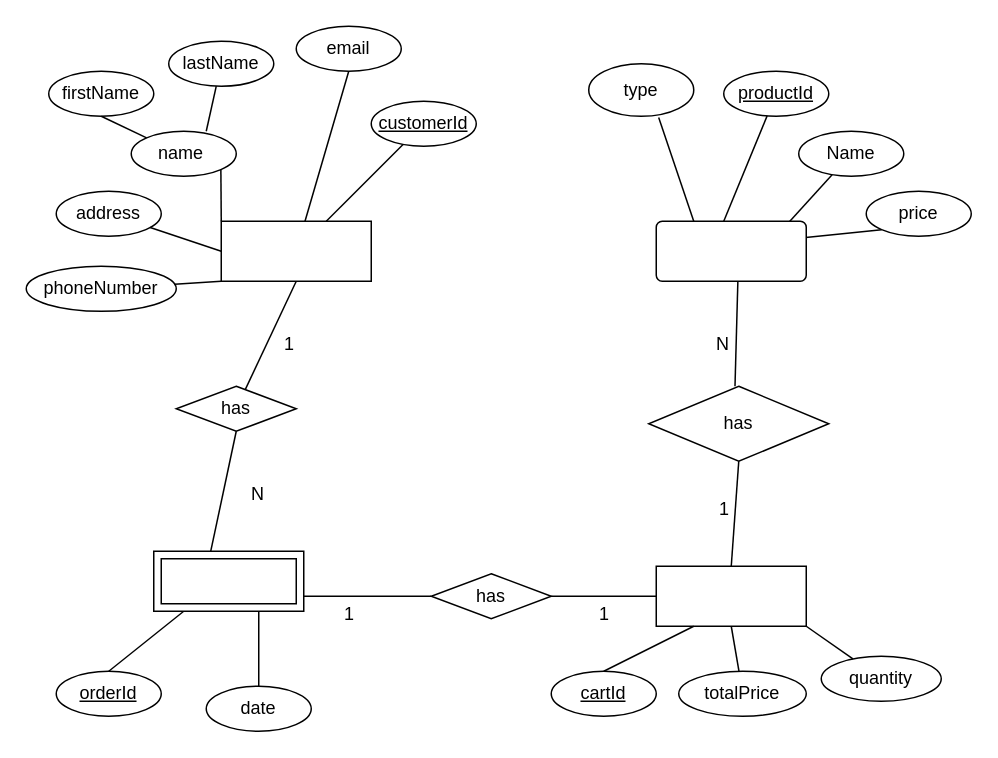
This 998x758 diagram has some shape labels left out. Here are the shapes that lost their labels. From the top down, the box of each, then its label:
(220, 220, 371, 281): Customer
(655, 220, 806, 281): Product
(152, 550, 304, 611): Order
(655, 565, 806, 626): Cart
